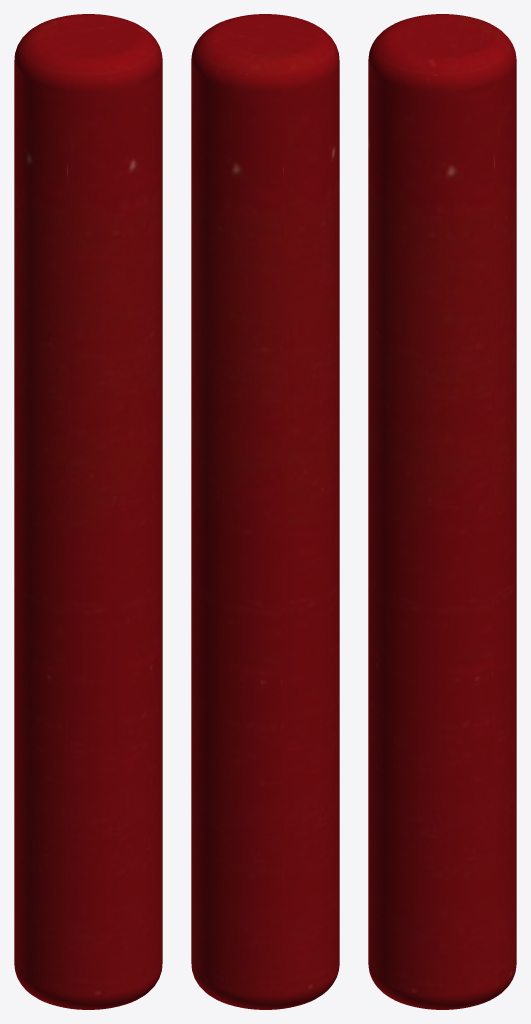
File: peg_nine_hole.glb
3 views of the same model, side by side, from view 1: azimuth 30°, elevation 25°; view 2: azimuth 150°, elevation 25°; view 3: azimuth 270°, elevation 25° (orthographic).
Parts seen in each view (by area): view 1: SM_Peg_NineHole; view 2: SM_Peg_NineHole; view 3: SM_Peg_NineHole.
Boxes of the visible parts, bbox=[...] form: SM_Peg_NineHole: bbox=[14, 14, 162, 1009]; SM_Peg_NineHole: bbox=[191, 14, 339, 1009]; SM_Peg_NineHole: bbox=[368, 14, 516, 1009].
Size of the model in its own units: 0.00568 by 0.0402 by 0.00568.
Materials: 1 (1 with a texture image).
